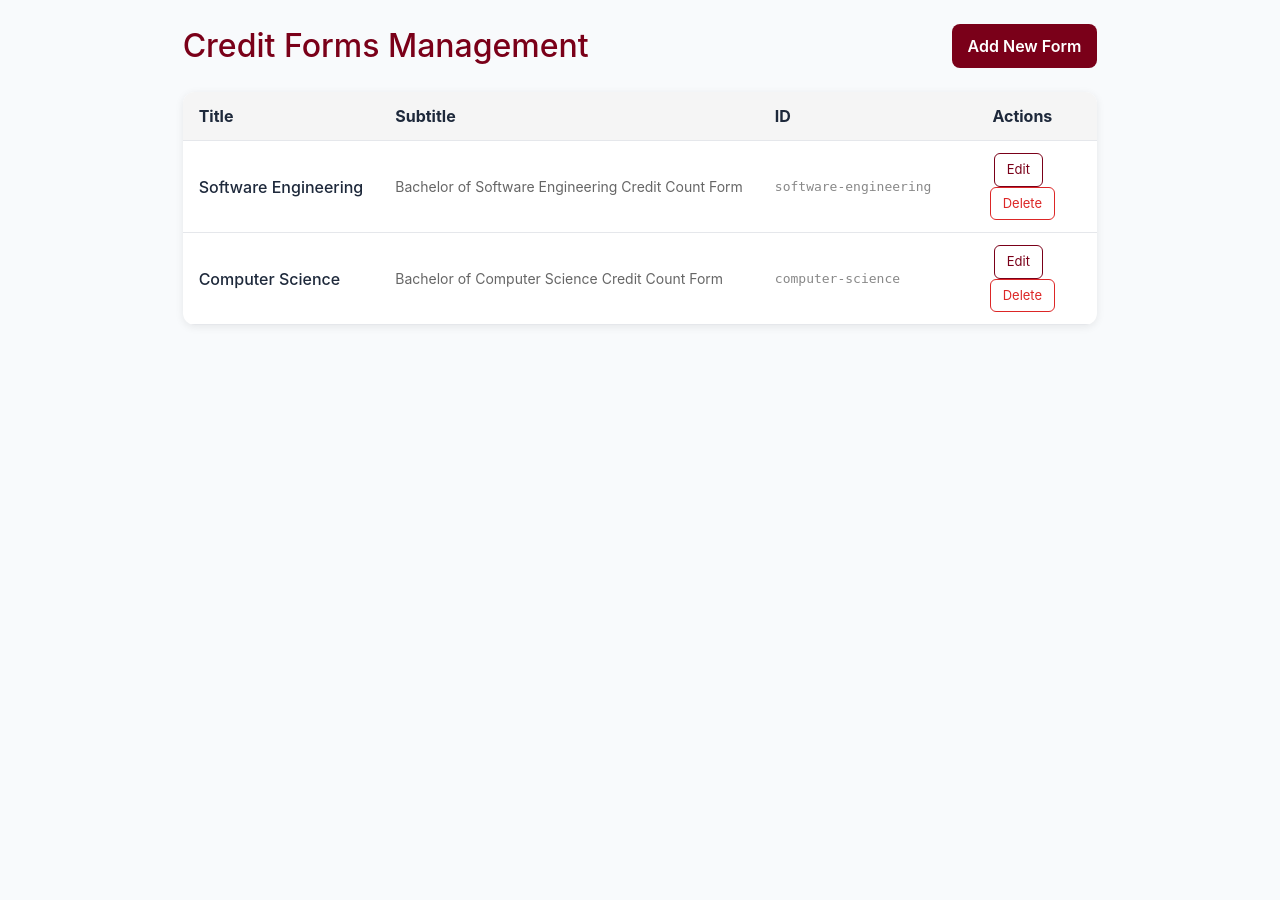
Test: CreditFormManager › Add Form Modal › should open add modal when Add New Form is clicked
Check: the text "Software Engineering" is shown, box [183, 140, 379, 232]
Click the button "Add New Form": (1024, 46) [952, 24, 1097, 68]
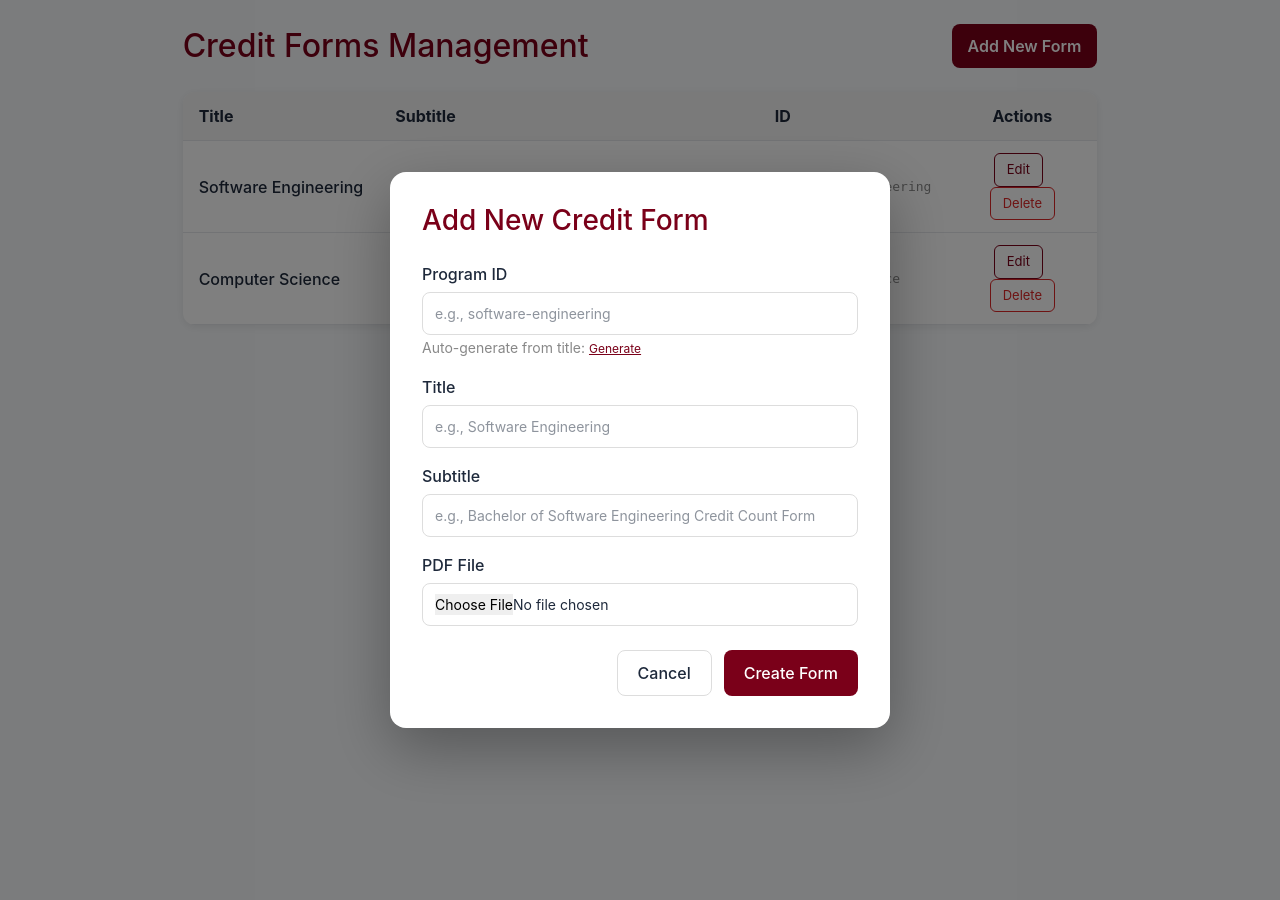
Check: the heading "Add New Credit Form" is shown, box [422, 203, 709, 237]
Check: the field labelled "Program ID" is shown, box [422, 292, 858, 335]
Check: the field labelled "Title" is shown, box [422, 405, 858, 448]
